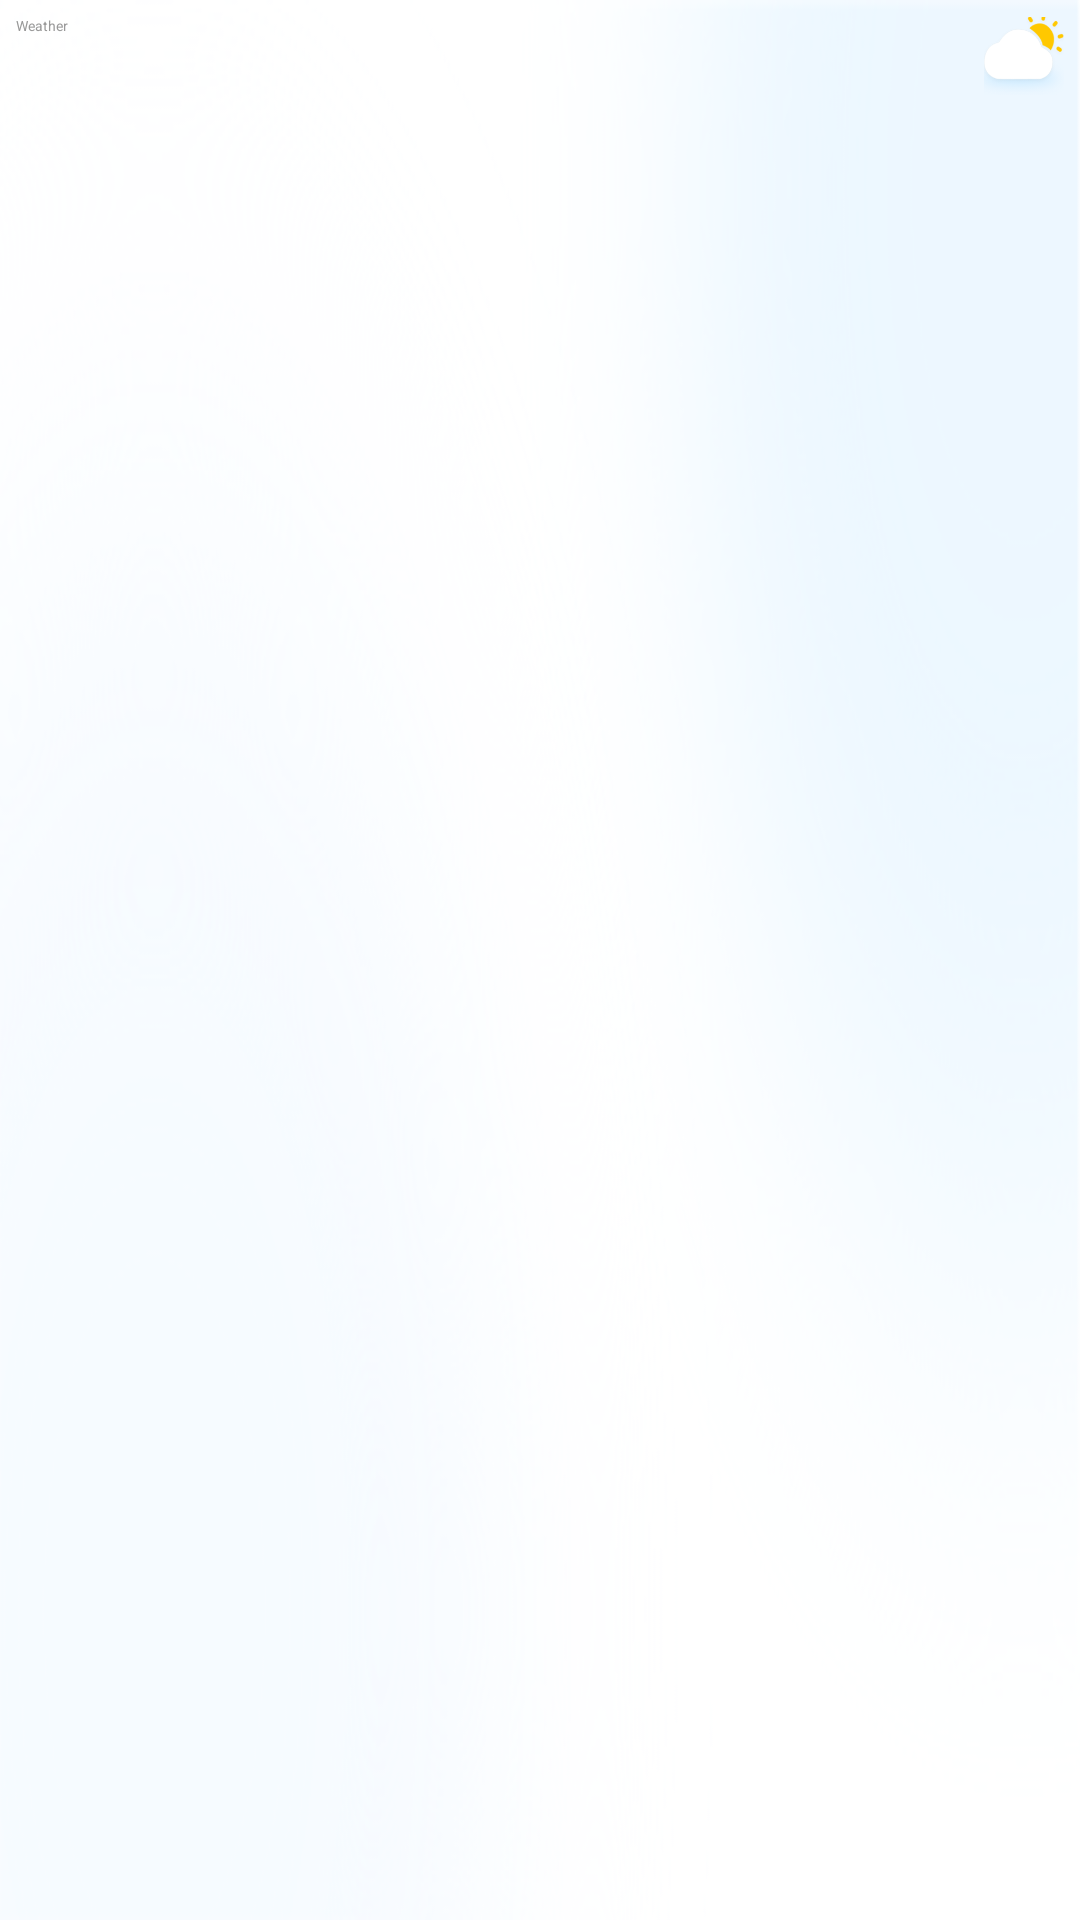

Where icons sit on this 1080x1920 app screen, as (x1, y1, x2, y2):
weather: (995, 17, 1064, 82)
